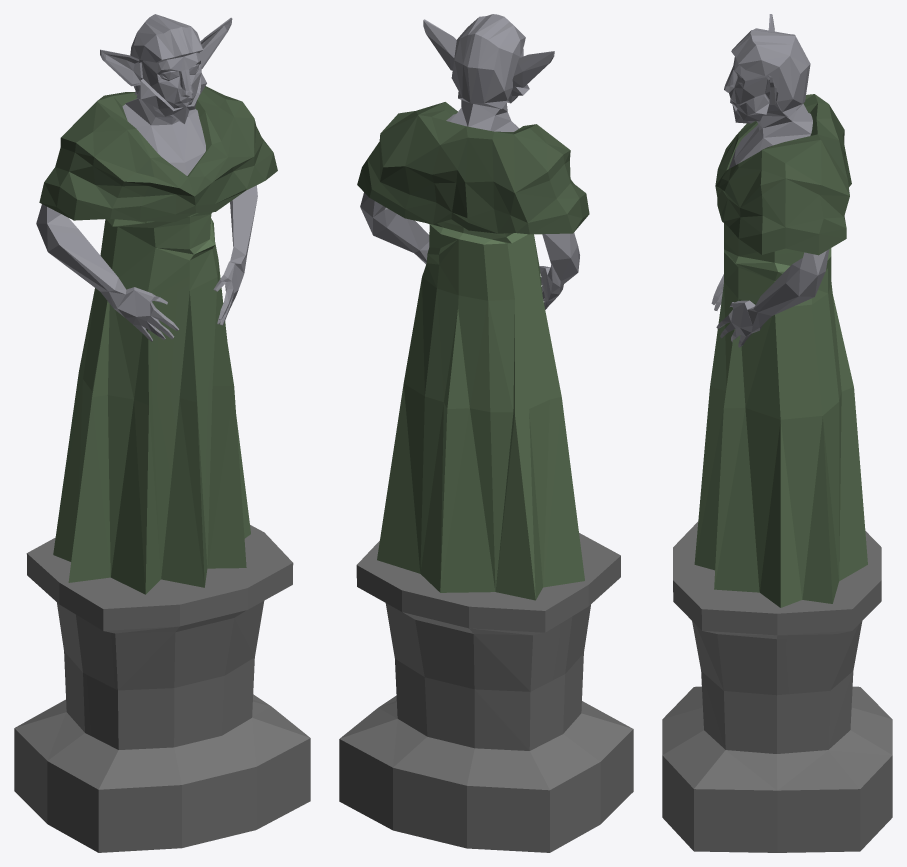
File: _statue_2.fbx
The picture shows the model from 3 angles, left to right: view 1: azimuth 30°, elevation 25°; view 2: azimuth 150°, elevation 25°; view 3: azimuth 270°, elevation 25°; orthographic projection.
Parts seen in each view (by area): view 1: statue_2; view 2: statue_2; view 3: statue_2.
Boxes of the visible parts, x1,y1,x2,y2 form: statue_2: (14,14,310,852); statue_2: (339,14,633,852); statue_2: (662,14,892,852).
Bounding box in the file's own units: 129 × 428 × 116.
